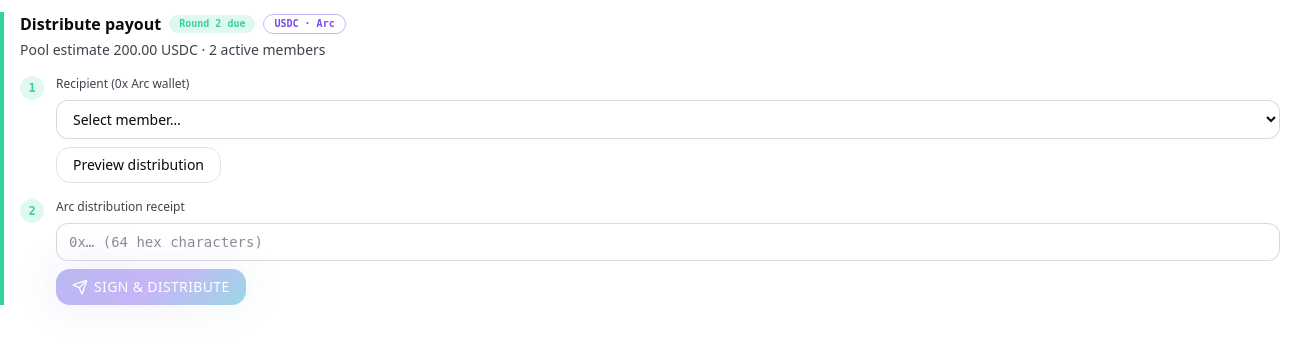
Test: CirclePayoutTrigger › requires a recipient before previewing
Click the button "Preview distribution" at (138, 165), box x1=56 y1=147 x2=221 y2=183
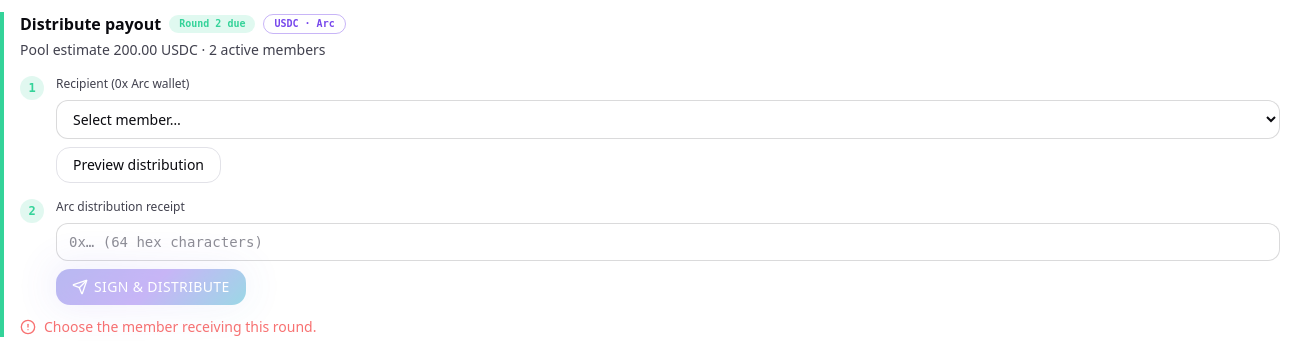
Expected: the message "Choose the member receiving this round." is shown, x1=20 y1=317 x2=316 y2=336
